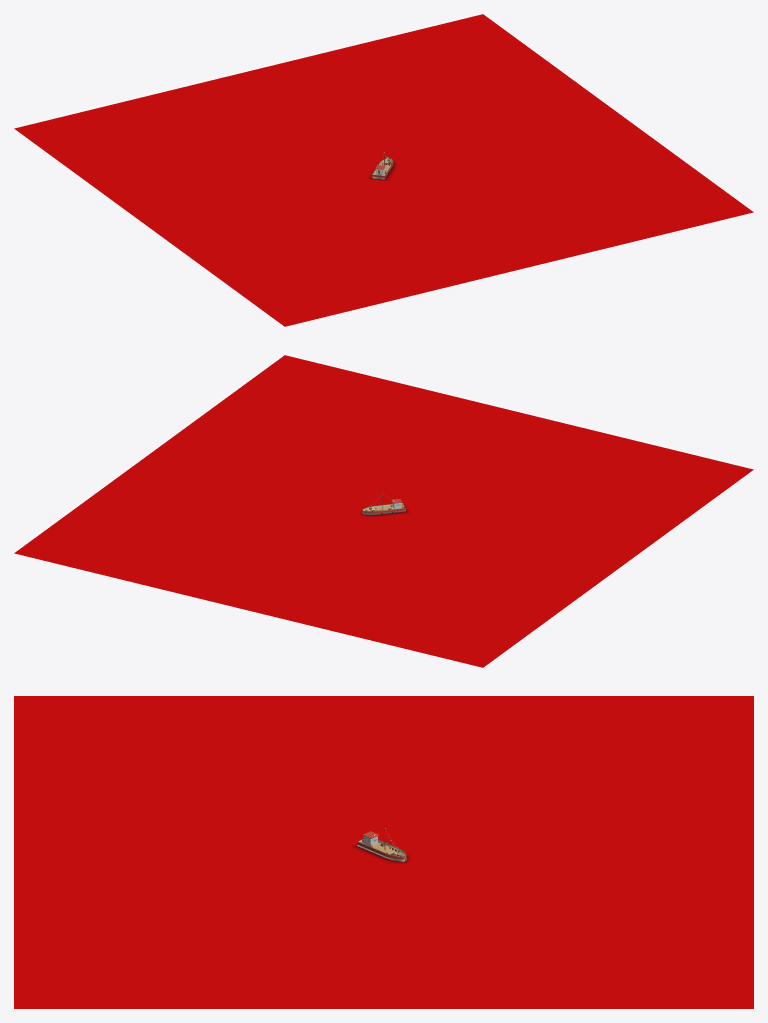
File: sea.glb
3 renders of one model, top to bottom at view 1: azimuth 30°, elevation 25°; view 2: azimuth 150°, elevation 25°; view 3: azimuth 270°, elevation 25°, orthographic. The views are drawn at different scales.
Visible parts, largest first — view 1: Sea_Water; view 2: Sea_Water; view 3: Sea_Water, Sea_Static.
Part boxes in pixels (x1,y1,x2,y2): Sea_Water: [14, 14, 753, 326]; Sea_Water: [14, 355, 753, 667]; Sea_Water: [14, 696, 753, 1008]; Sea_Static: [357, 828, 406, 861].
Size of the model in its own units: 140 by 6.06 by 140.
